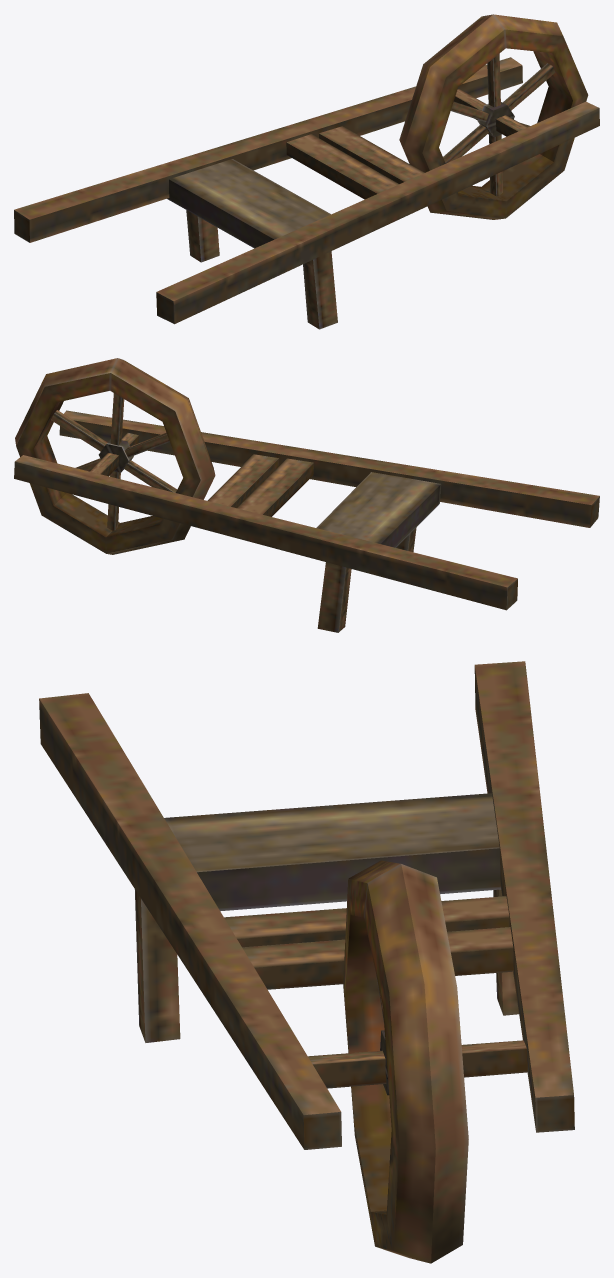
File: 4001_Item_mache_2.FBX
3 views of the same model, one above another, from view 1: azimuth 30°, elevation 25°; view 2: azimuth 150°, elevation 25°; view 3: azimuth 270°, elevation 25° (orthographic). The views are drawn at different scales.
Parts seen in each view (by area): view 1: 4001_Item_mache_2; view 2: 4001_Item_mache_2; view 3: 4001_Item_mache_2.
Part boxes in pixels (<box>): 4001_Item_mache_2: <box>14,14,599,329</box>; 4001_Item_mache_2: <box>14,358,599,632</box>; 4001_Item_mache_2: <box>39,661,574,1263</box>.
Size of the model in its own units: 189 by 68.59 by 84.97.
